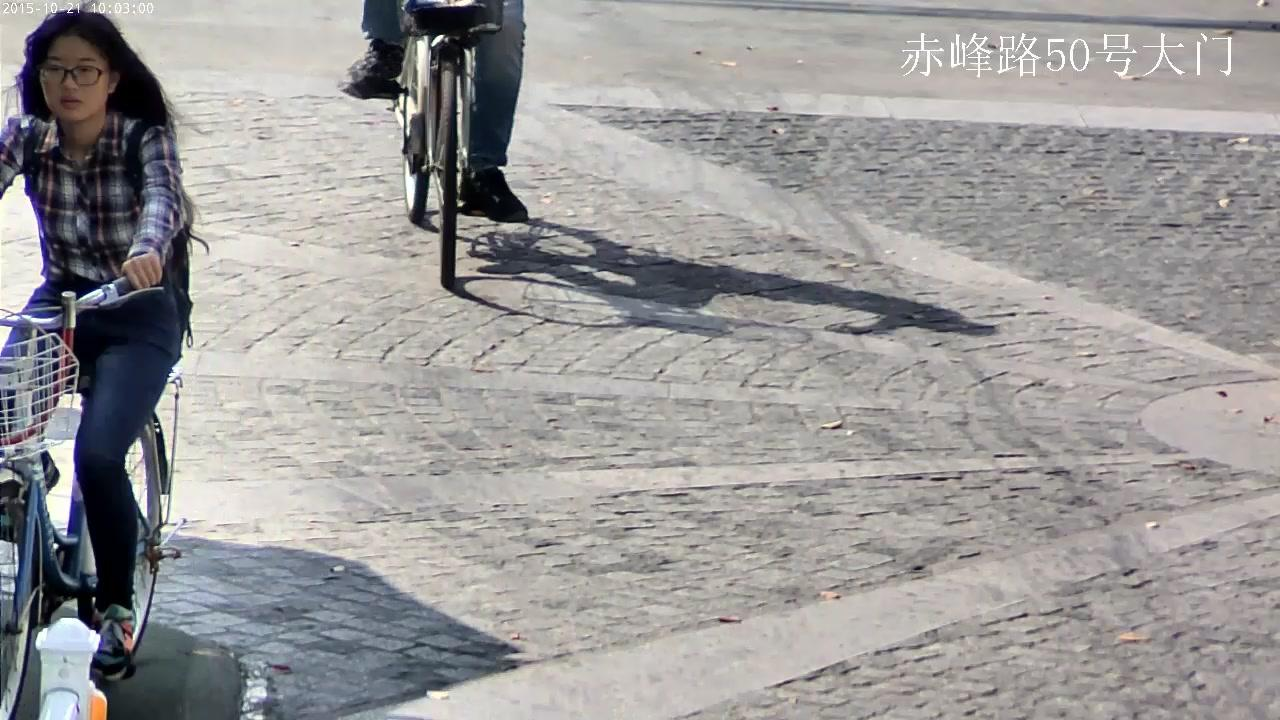person: (0, 8, 212, 720), (0, 9, 211, 685), (337, 0, 531, 286), (337, 0, 530, 221)
